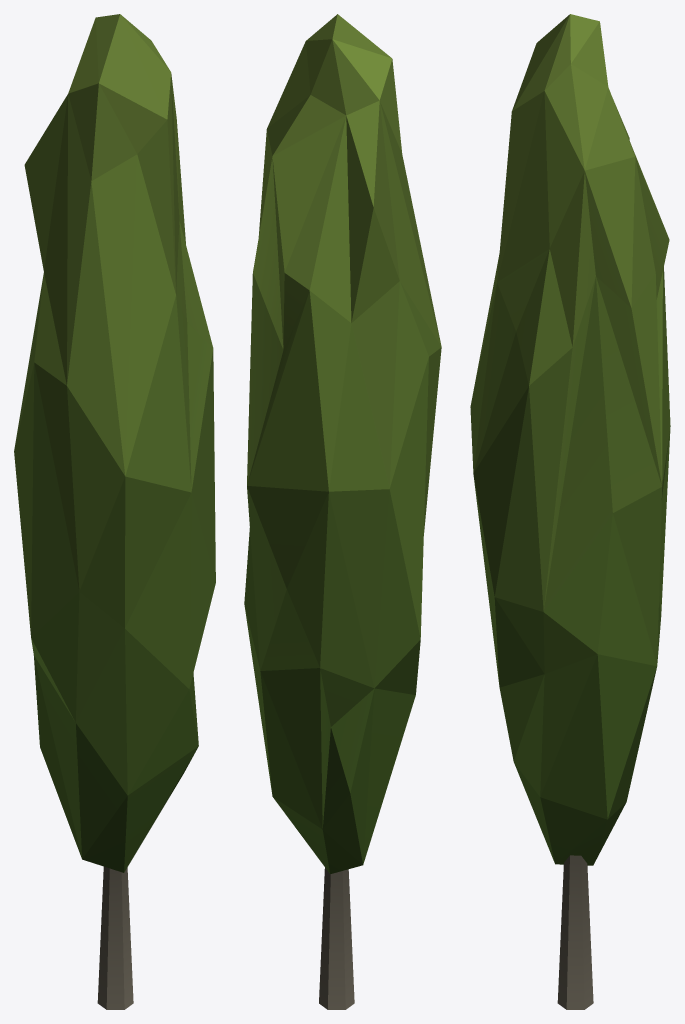
File: poplar_1.glb
The picture shows the model from 3 angles, left to right: view 1: azimuth 30°, elevation 25°; view 2: azimuth 150°, elevation 25°; view 3: azimuth 270°, elevation 25°; orthographic projection.
Parts seen in each view (by area): view 1: trunk; view 2: trunk; view 3: trunk.
Part boxes in pixels (box(x1,y1,x2,y2)): trunk: box(14, 14, 215, 1009); trunk: box(244, 14, 441, 1009); trunk: box(470, 14, 670, 1009).
Bounding box in the file's own units: 2.17 × 12.18 × 2.23.
